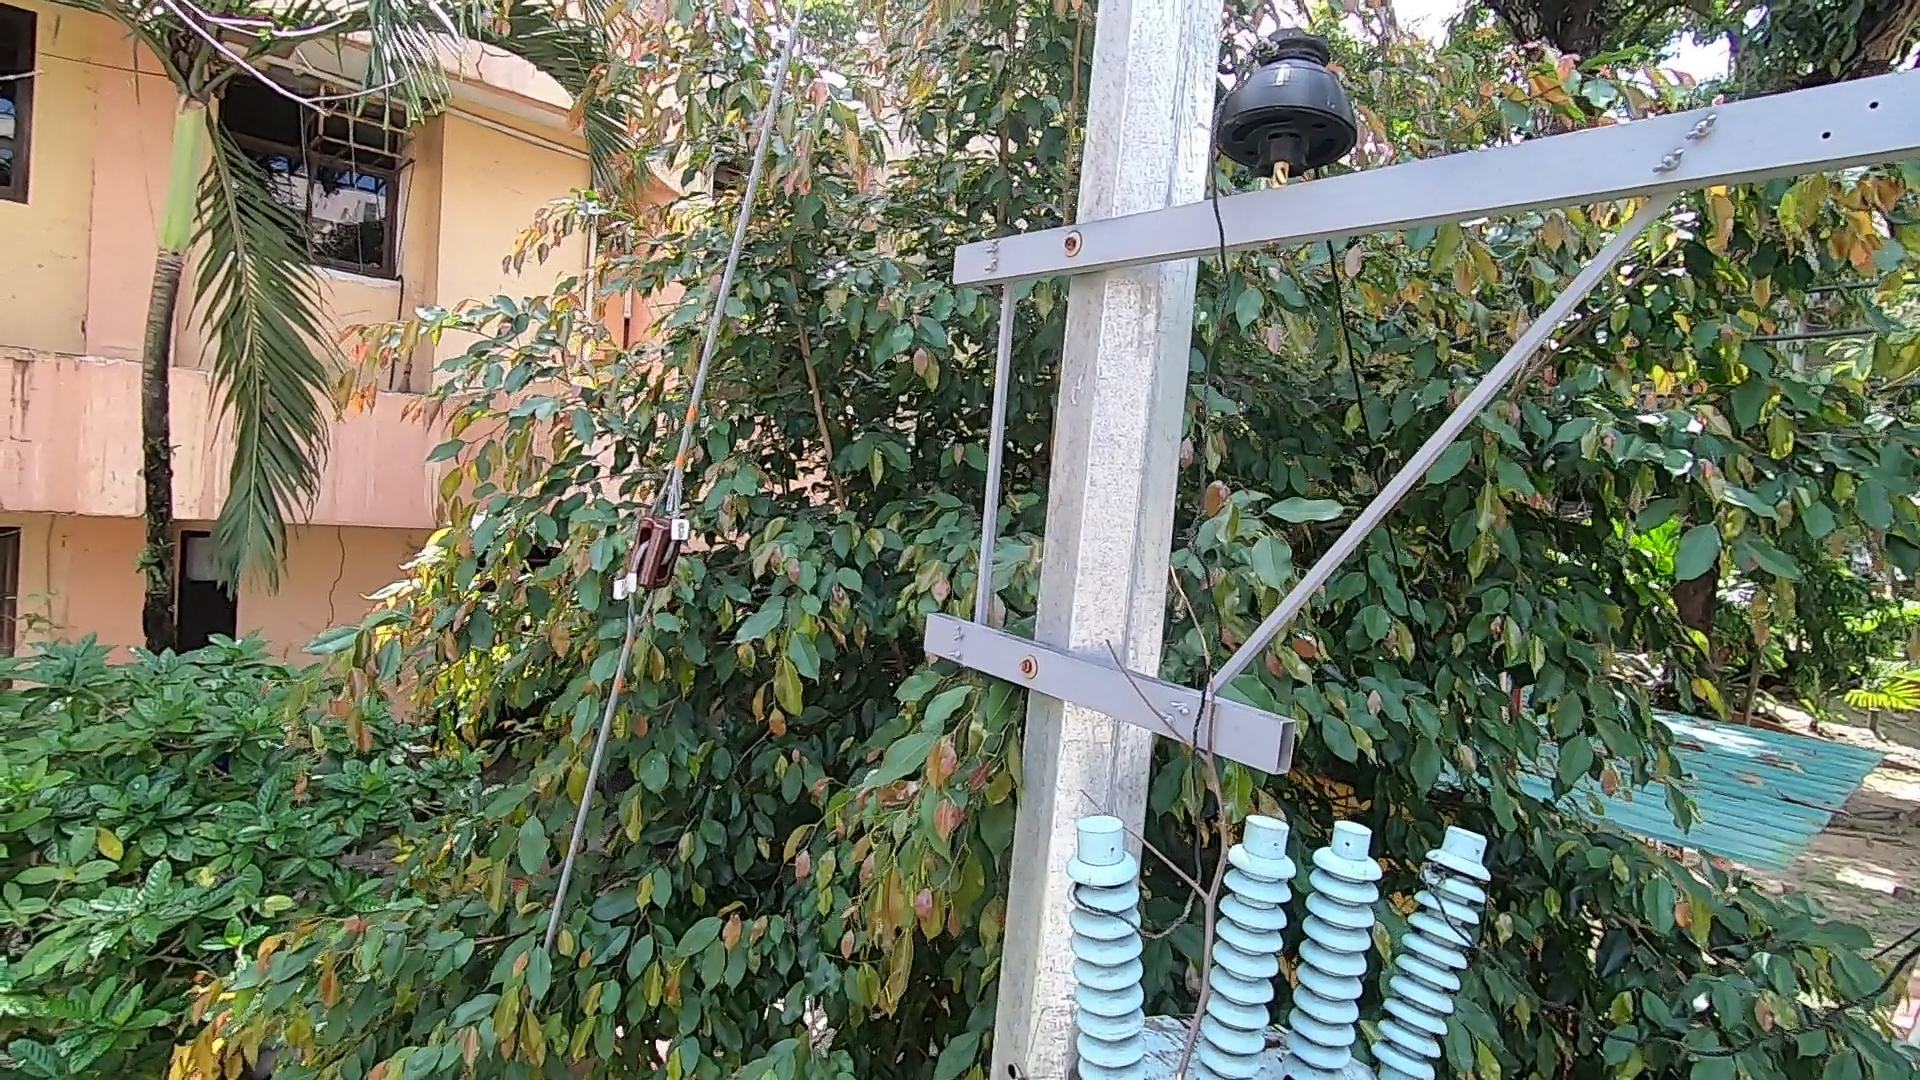tree branch: (1047, 545, 1280, 1080)
